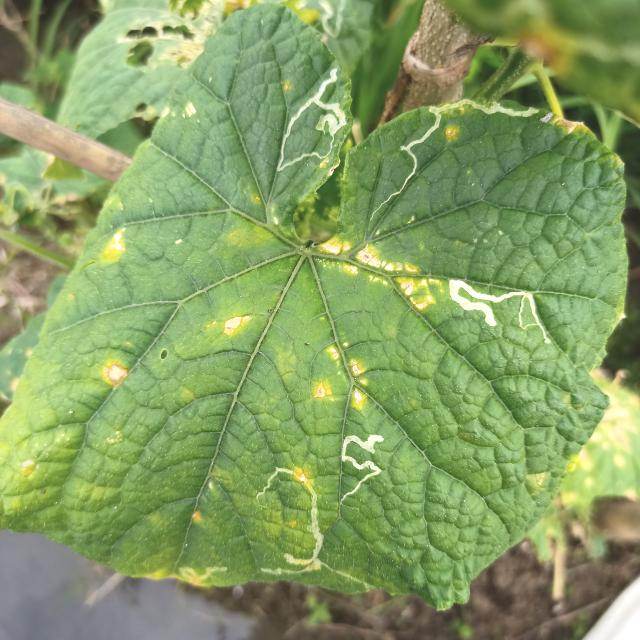disease_cucumber: (320, 237, 446, 312), (313, 345, 371, 412), (100, 226, 127, 266), (220, 312, 253, 339), (158, 103, 199, 122), (106, 362, 131, 386), (443, 126, 459, 143)
